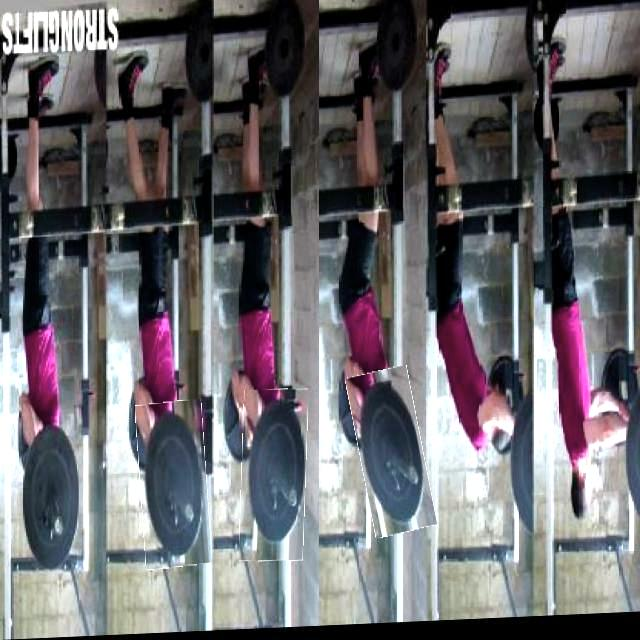barbell: (352, 370, 430, 542), (138, 402, 210, 572), (241, 392, 307, 565), (18, 420, 83, 592)
